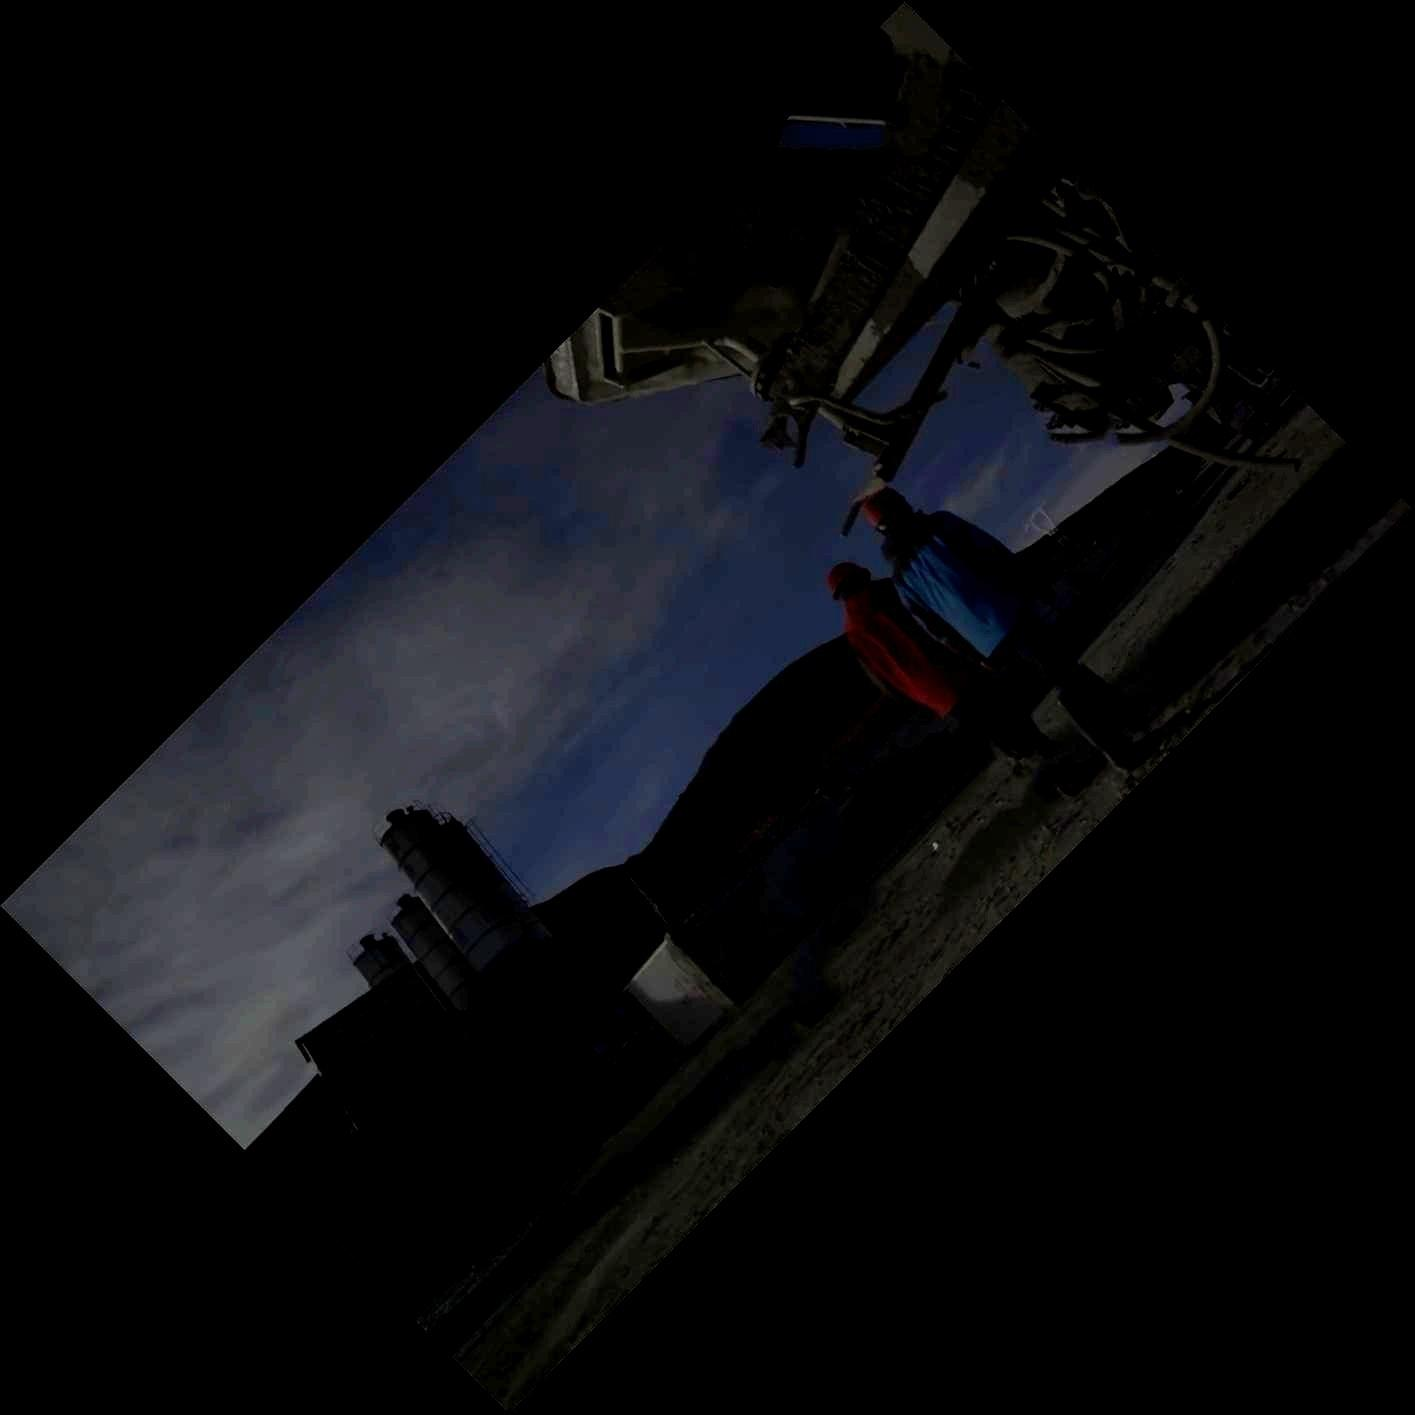helmet: (860, 487, 914, 539), (825, 562, 871, 603)
